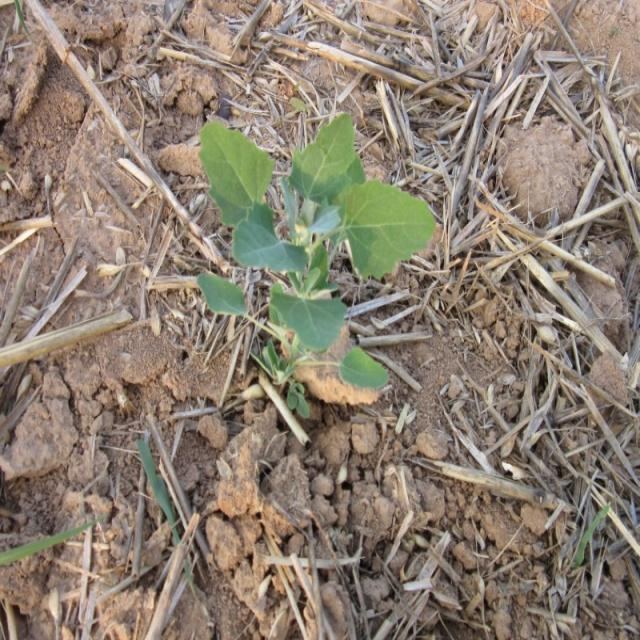ca: (198, 112, 437, 391)
